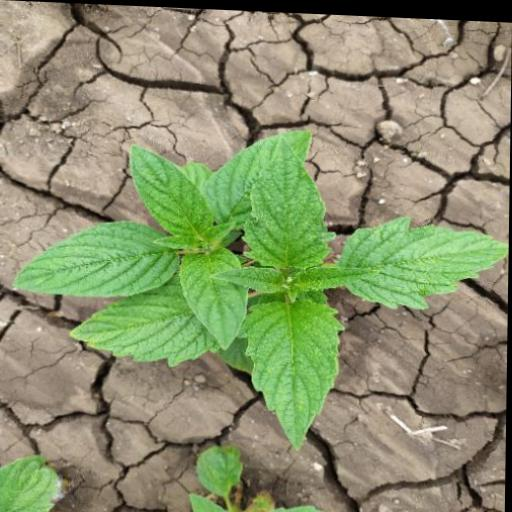crop: (4, 93, 511, 458)
